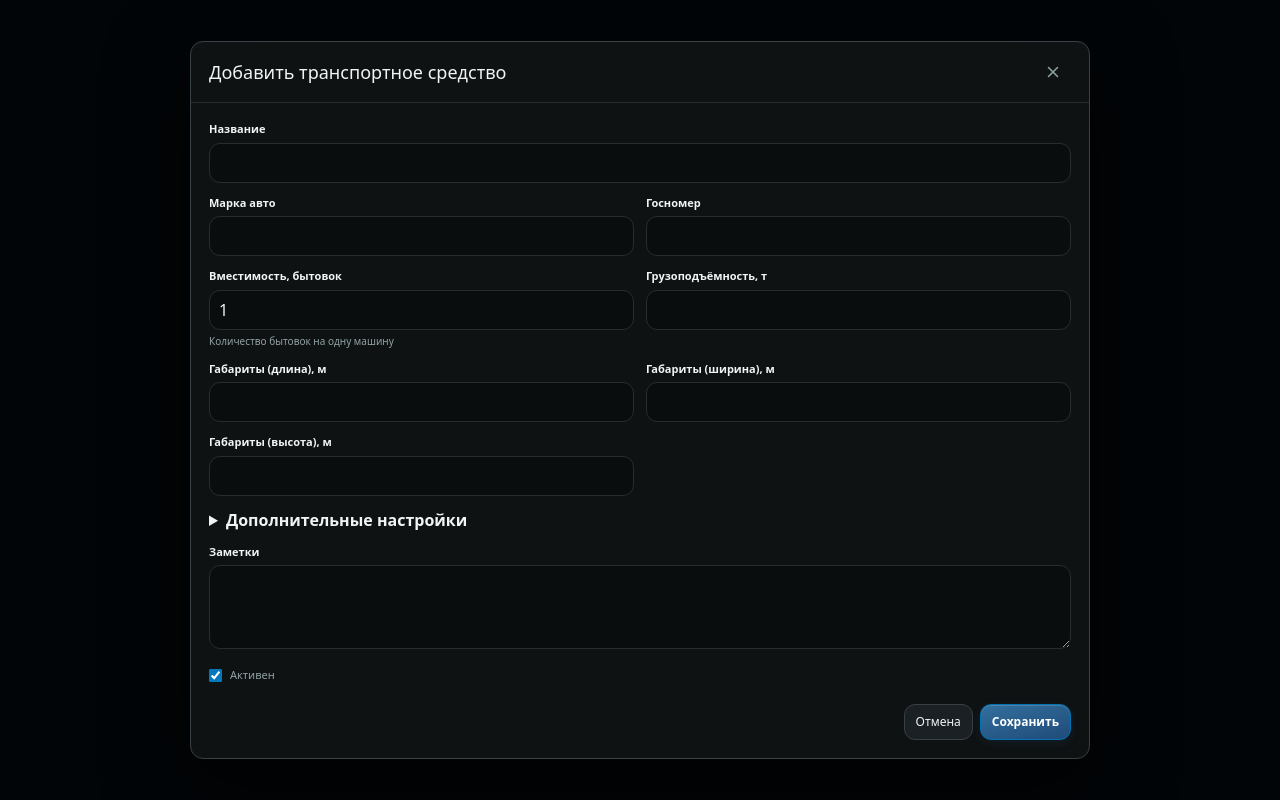
Test: vehicle editor › rejects capacity above the backend maximum with an inline error
The image size is (1280, 800).
Type "Машина 1" into the field labelled "Название" at (640, 163), box [209,143,1071,183]
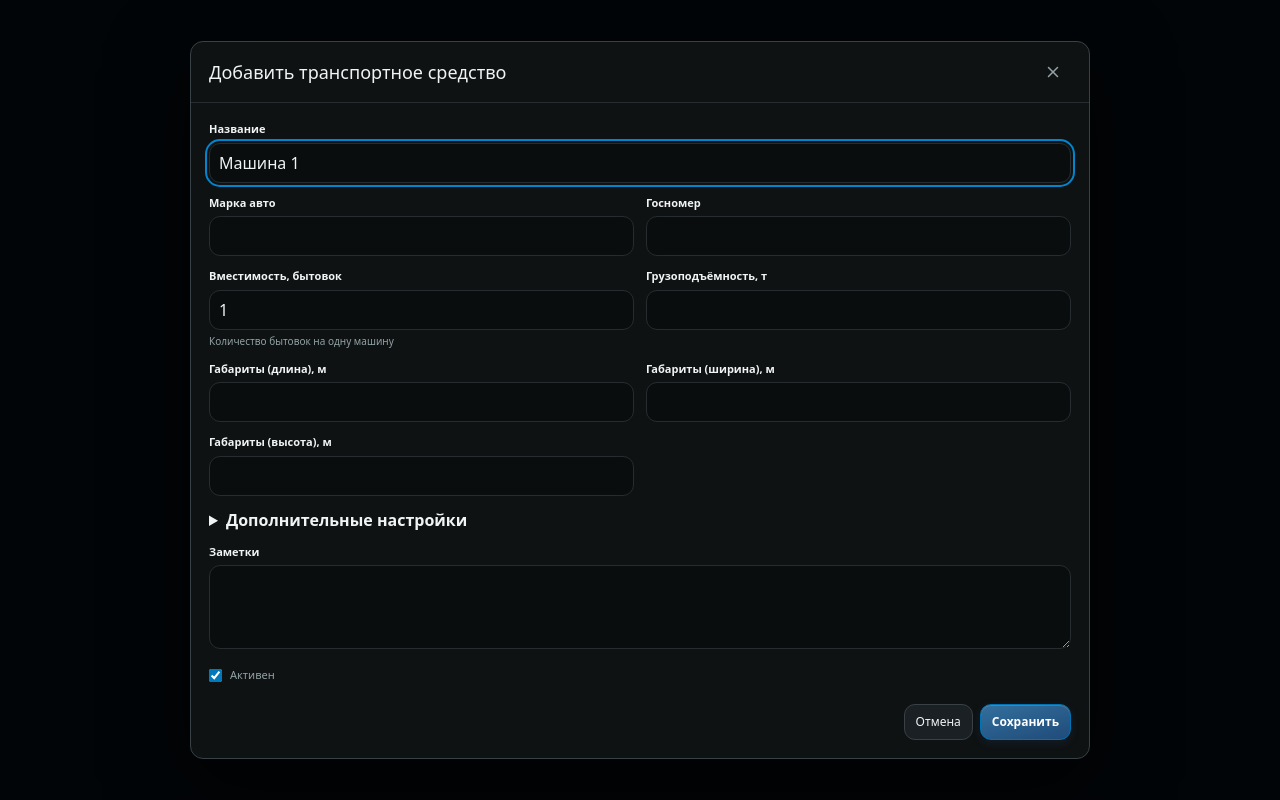
Type "А123БВ" into the field labelled "Госномер" at (858, 236), box [646,216,1071,256]
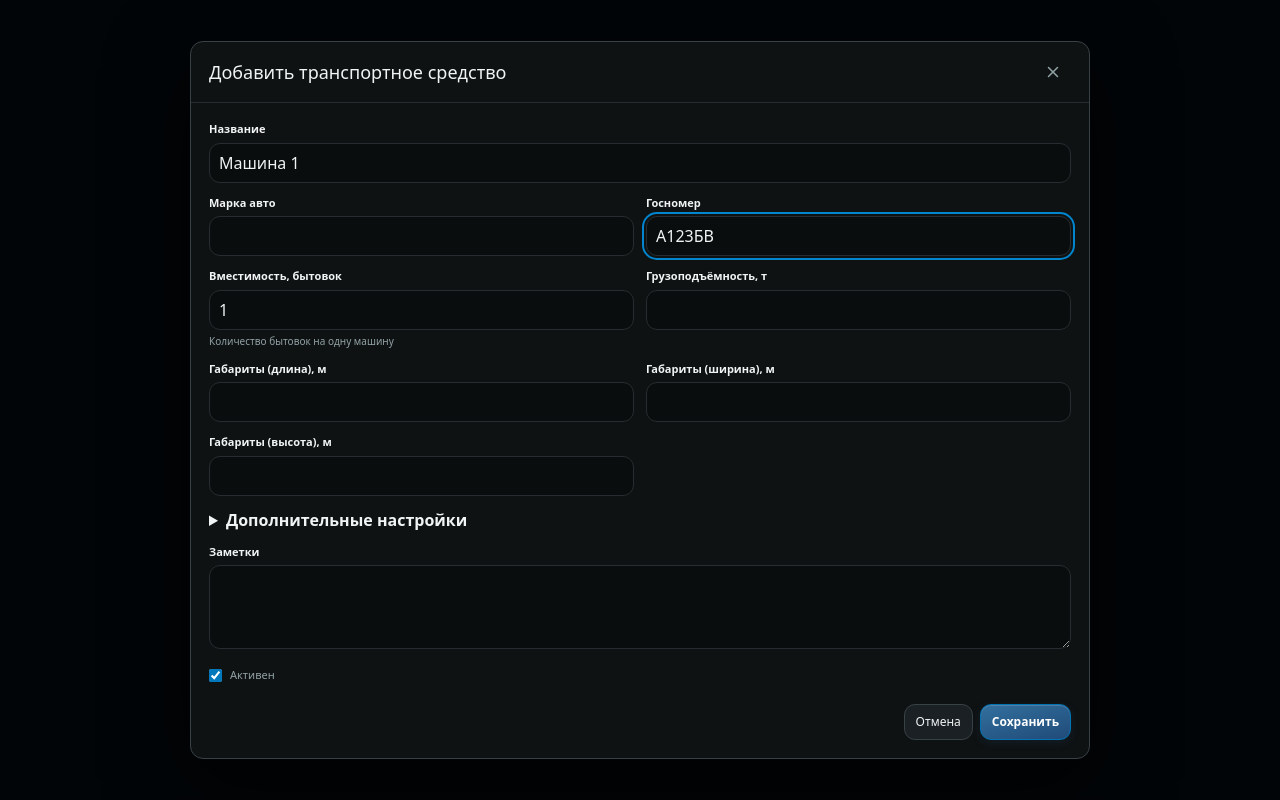
Replace the text in the number field labelled "Вместимость, бытовок" with "3" at (422, 310), box [209,290,634,330]
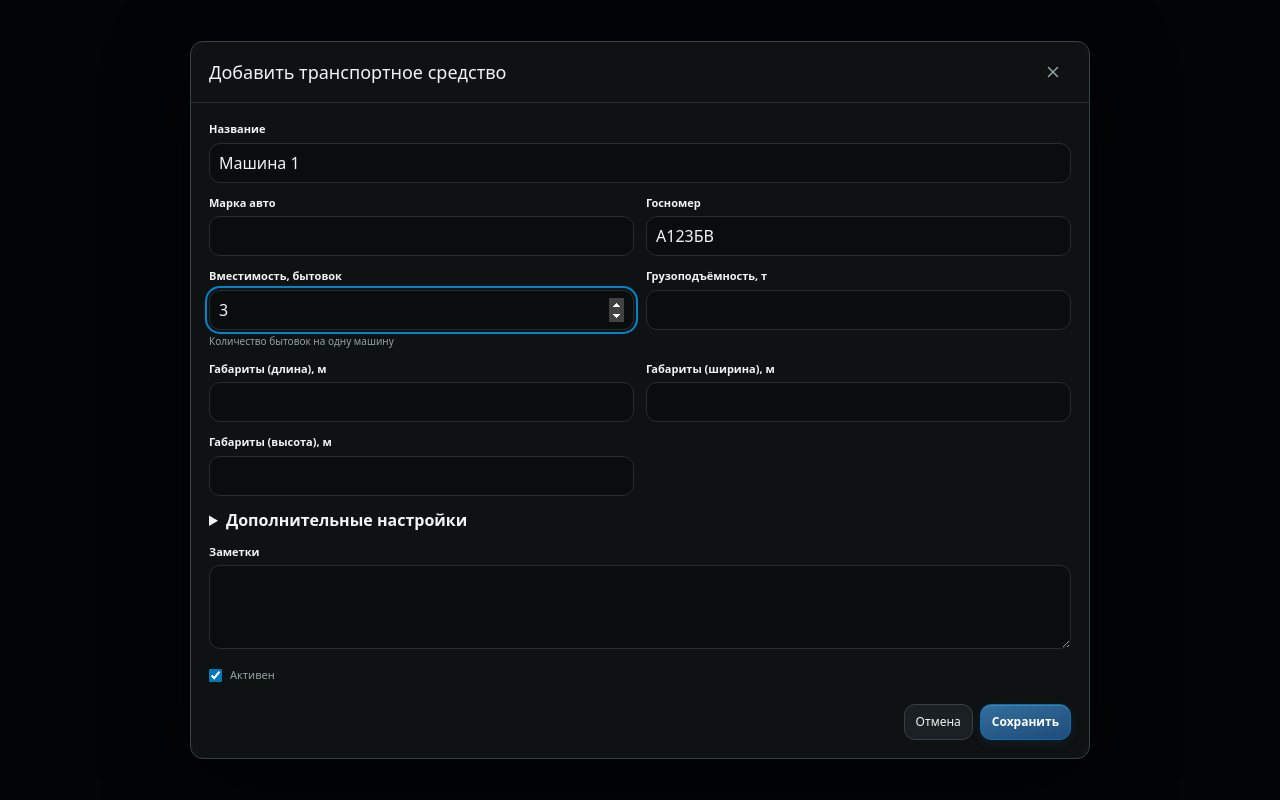
Click the button "Сохранить" at (1025, 722), box [980,704,1071,740]
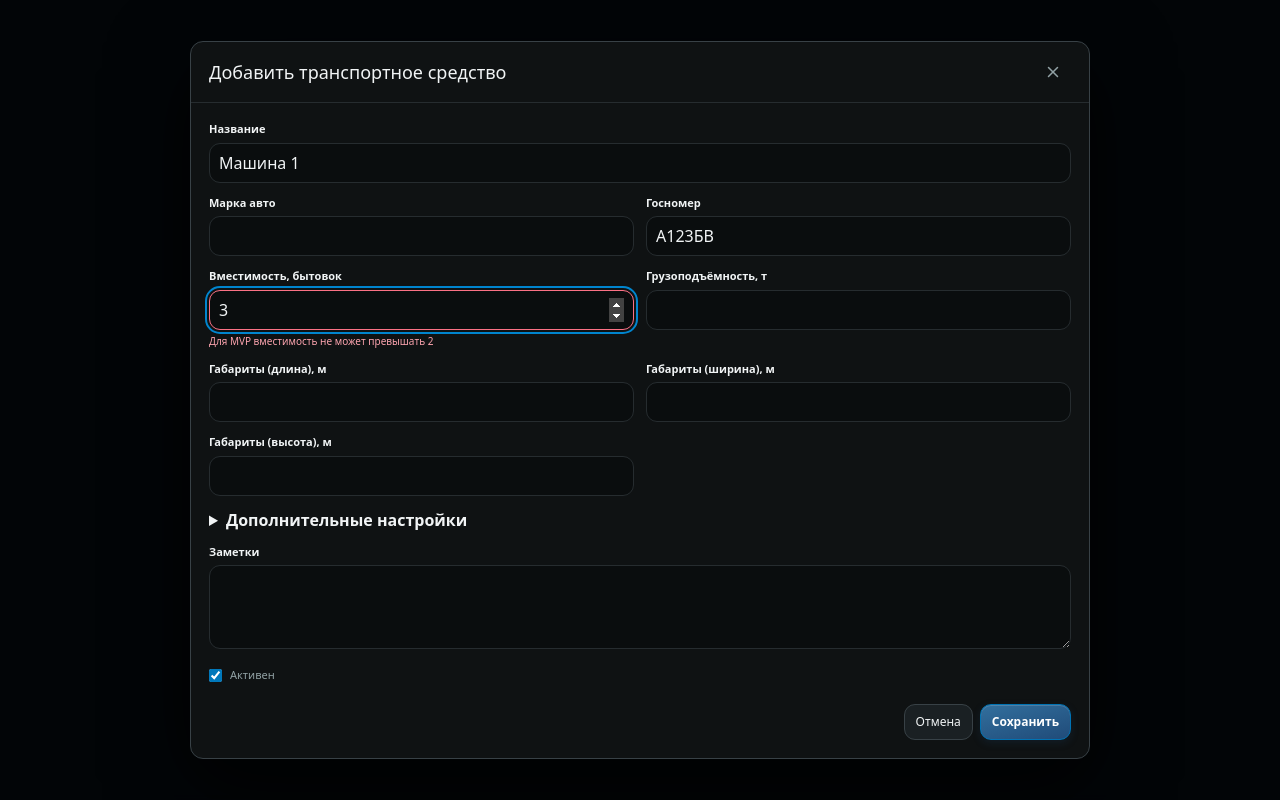
Check: the text "Для MVP вместимость не может превышать 2" is shown, box [209,334,434,348]
